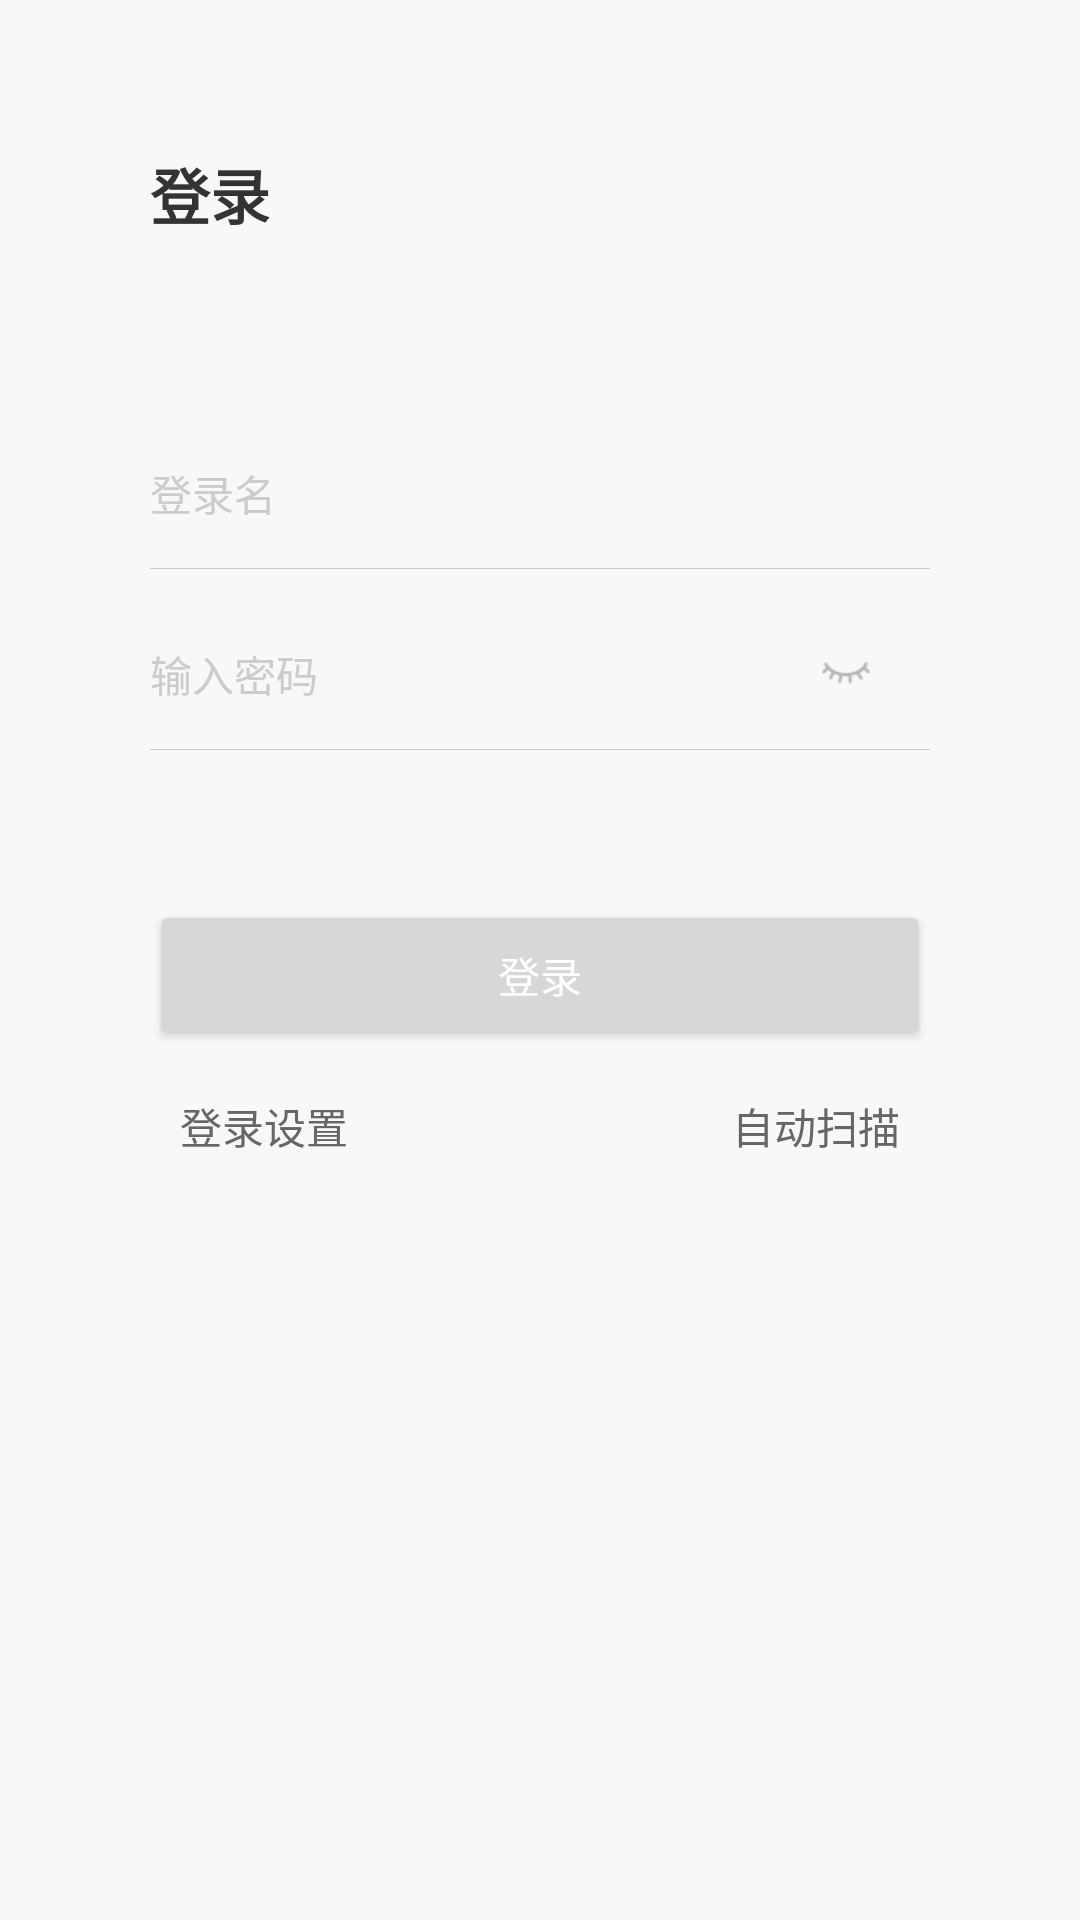

Locate icon controls on the screen. Image size 1080px x 1920px, boxes as (x1, y1, x2, y2).
eye: (822, 662, 870, 683)
